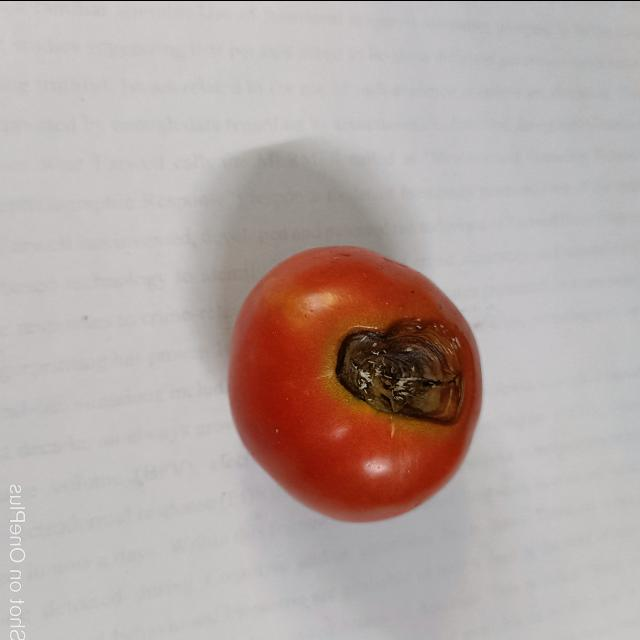Anthrocnose: (336, 321, 470, 423)
